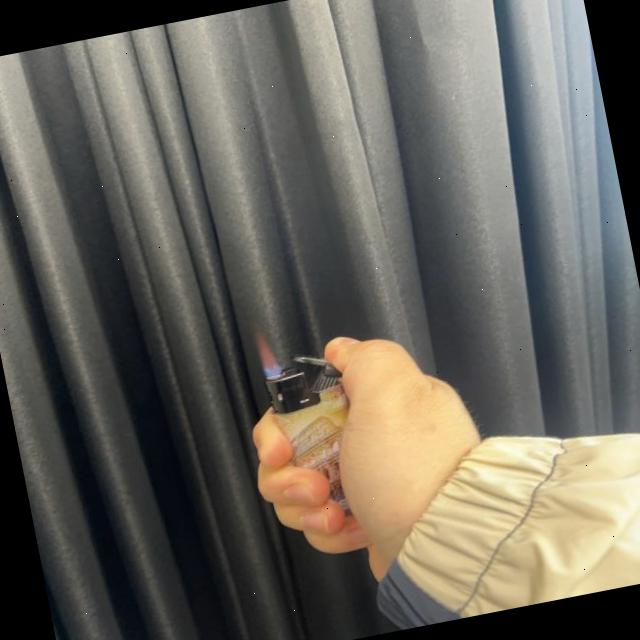fire: (255, 324, 286, 382)
